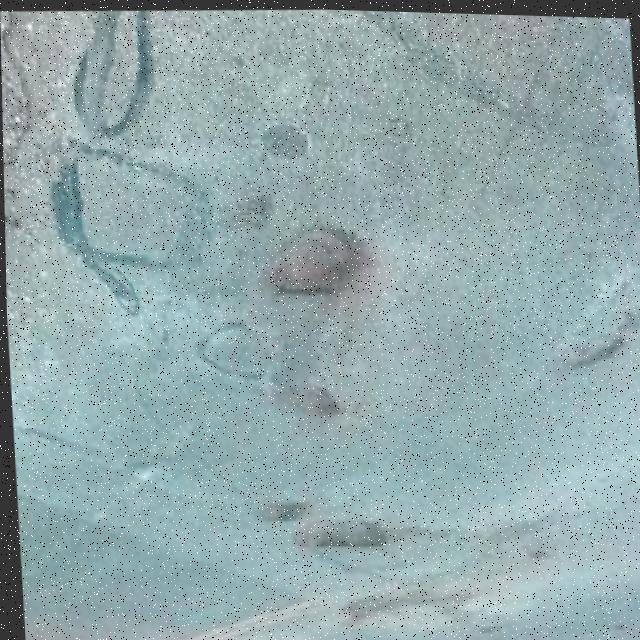pothole: (264, 217, 354, 300), (287, 512, 386, 556), (269, 374, 340, 426), (556, 324, 626, 370), (250, 492, 310, 526)
